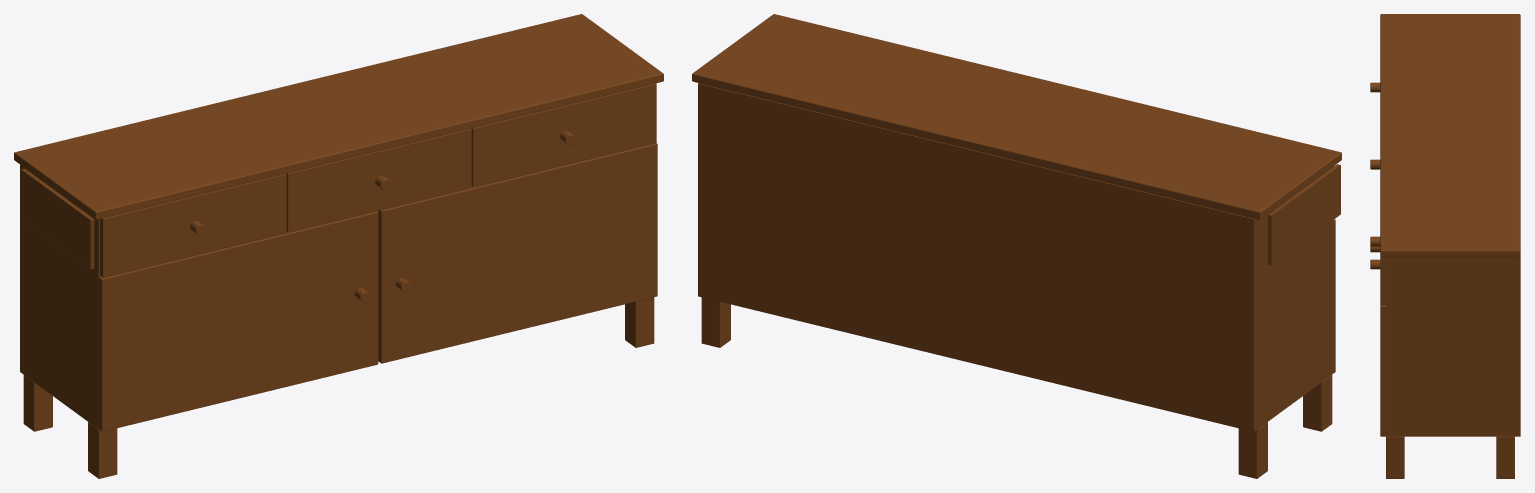
File: Oakley_sideboard.obj
3 renders of one model, left to right at view 1: azimuth 30°, elevation 25°; view 2: azimuth 150°, elevation 25°; view 3: azimuth 270°, elevation 25°, orthographic. The views are drawn at different scales.
Visible parts, largest first — view 1: top, door_1, door_2, carcass.side_1, drawer.front_1, drawer.front_3, drawer.front_2, drawer.side.left_1, leg_1, leg_2, leg_3, carcass.back; view 2: carcass.back, top, carcass.side_1, drawer.side.left_1, leg_3, leg_4, leg_1; view 3: top, carcass.side_2, carcass.back, leg_2, leg_4, door_2, drawer.front_3.
Part boxes in pixels (box(x1,y1,x2,y2)): top: box(14, 14, 663, 219); door_1: box(99, 211, 378, 431); door_2: box(378, 143, 657, 363); carcass.side_1: box(23, 167, 100, 429); drawer.front_1: box(100, 173, 286, 277); drawer.front_3: box(471, 83, 656, 187); drawer.front_2: box(286, 128, 471, 232); drawer.side.left_1: box(21, 168, 94, 269); leg_1: box(88, 422, 117, 478); leg_2: box(625, 297, 654, 347); leg_3: box(23, 375, 52, 431); carcass.back: box(20, 165, 23, 373); carcass.back: box(698, 83, 1256, 431); top: box(692, 14, 1341, 219); carcass.side_1: box(1257, 167, 1332, 429); drawer.side.left_1: box(1268, 164, 1340, 264); leg_3: box(1238, 422, 1267, 478); leg_4: box(701, 297, 730, 347); leg_1: box(1303, 375, 1332, 431); top: box(1380, 14, 1520, 257); carcass.side_2: box(1386, 257, 1514, 436); carcass.back: box(1515, 256, 1520, 436); leg_2: box(1386, 436, 1404, 478); leg_4: box(1496, 436, 1514, 478); door_2: box(1380, 305, 1385, 436); drawer.front_3: box(1380, 257, 1385, 304).
Bounding box in the file's own units: 1.81 × 0.82 × 0.482.
